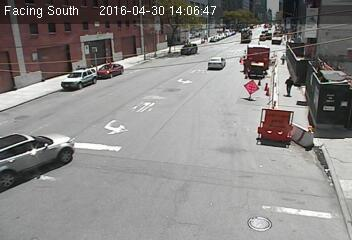neg: (240, 181, 257, 204), (140, 110, 156, 130), (90, 100, 105, 120), (57, 144, 69, 160)
pos: (281, 74, 296, 94), (279, 52, 286, 62)
